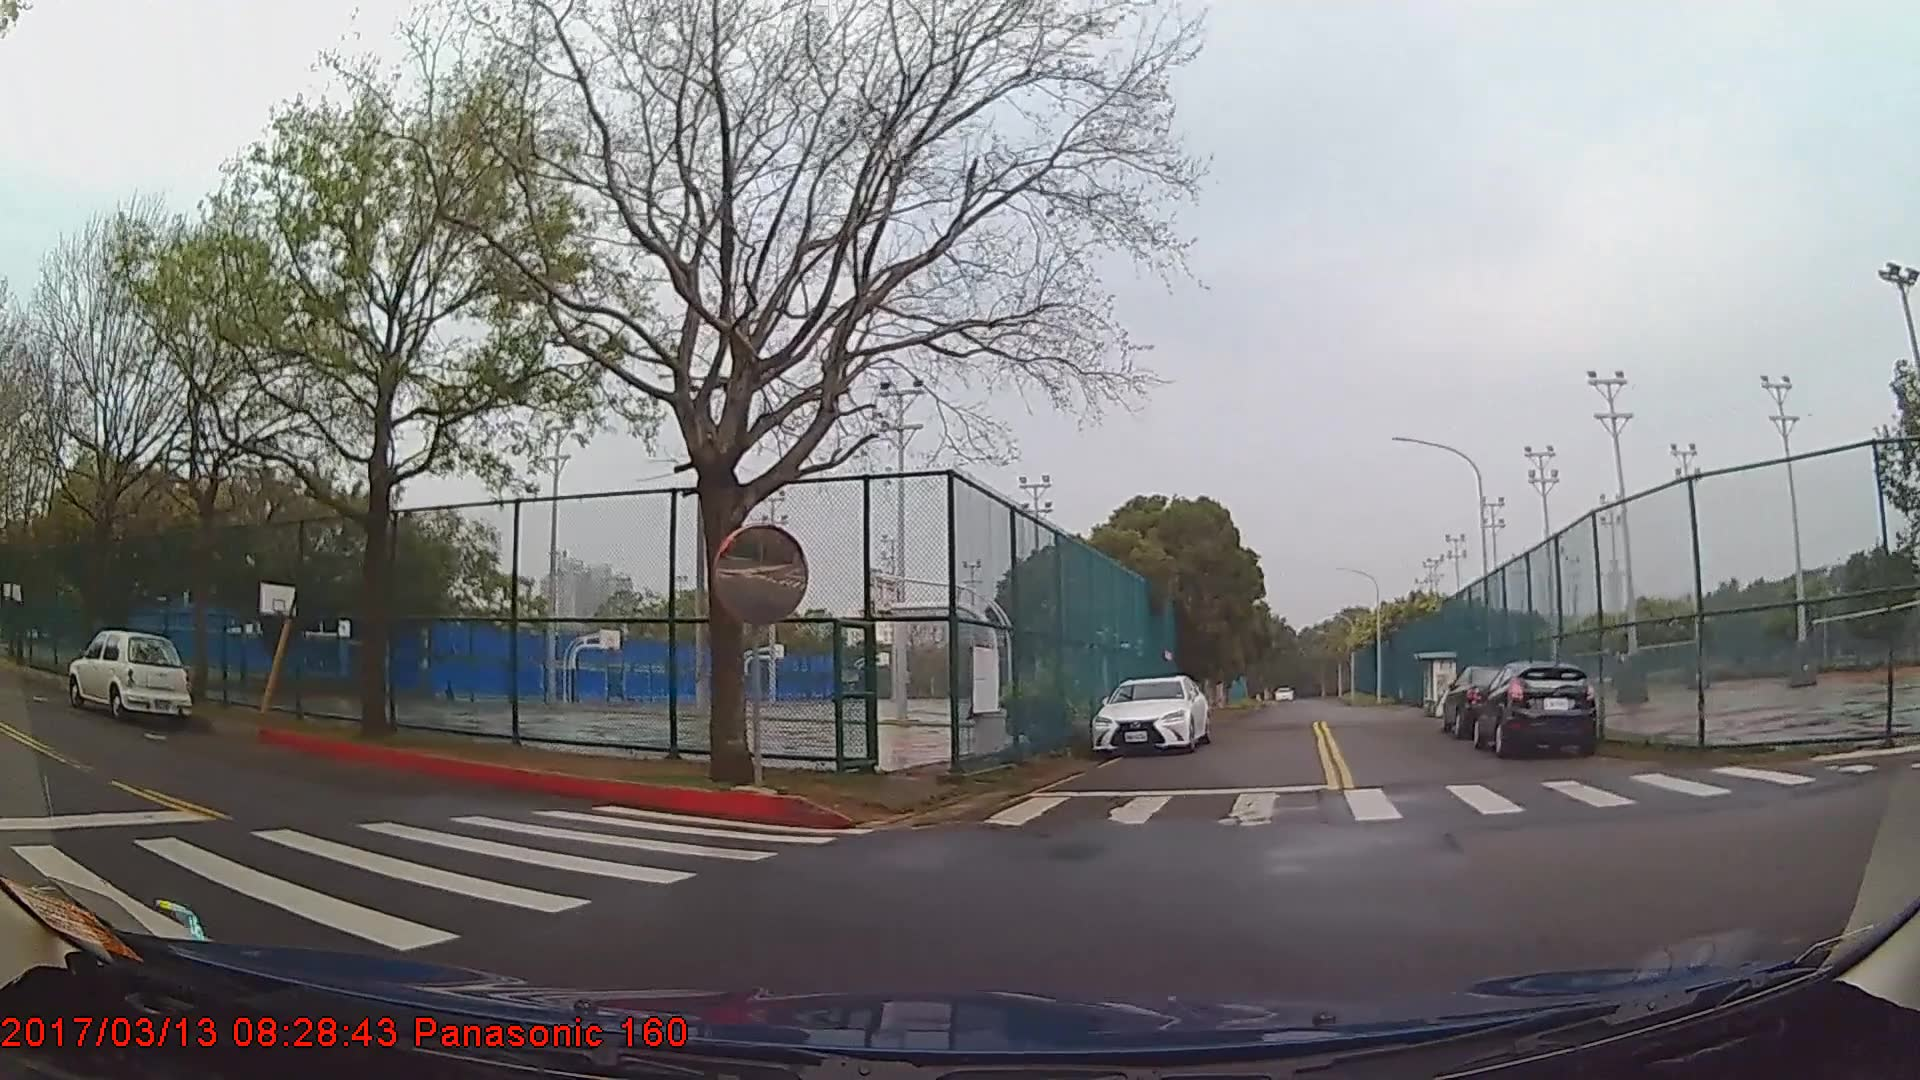vehicle: (63, 628, 196, 723), (1474, 659, 1600, 757), (1091, 674, 1208, 758), (1440, 663, 1519, 738)
